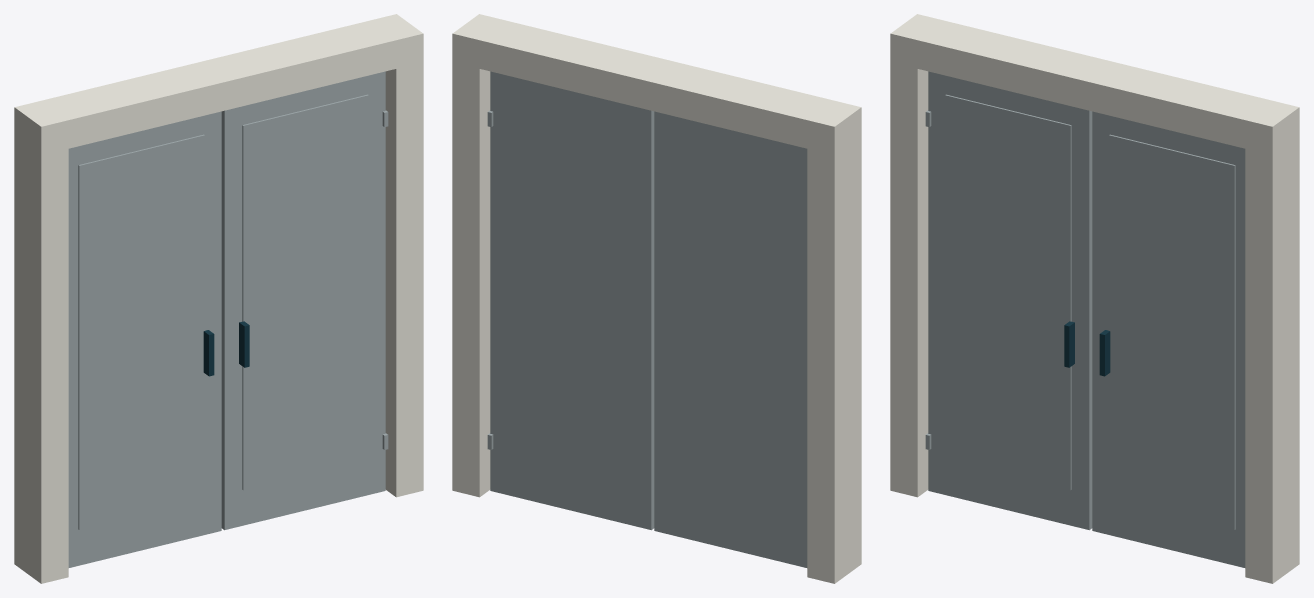
The model's file is double_doors.glb.
3 views of the same model, side by side, from view 1: azimuth 30°, elevation 25°; view 2: azimuth 150°, elevation 25°; view 3: azimuth 330°, elevation 25° (orthographic).
Visible parts, largest first — view 1: Aero_double_doors; view 2: Aero_double_doors; view 3: Aero_double_doors.
Part boxes in pixels (bbox=[...]): Aero_double_doors: bbox=[14, 14, 423, 583]; Aero_double_doors: bbox=[452, 14, 861, 583]; Aero_double_doors: bbox=[890, 14, 1299, 583].
Bounding box in the file's own units: 2.8 × 3.2 × 0.34.
3 materials, 3 textured.
